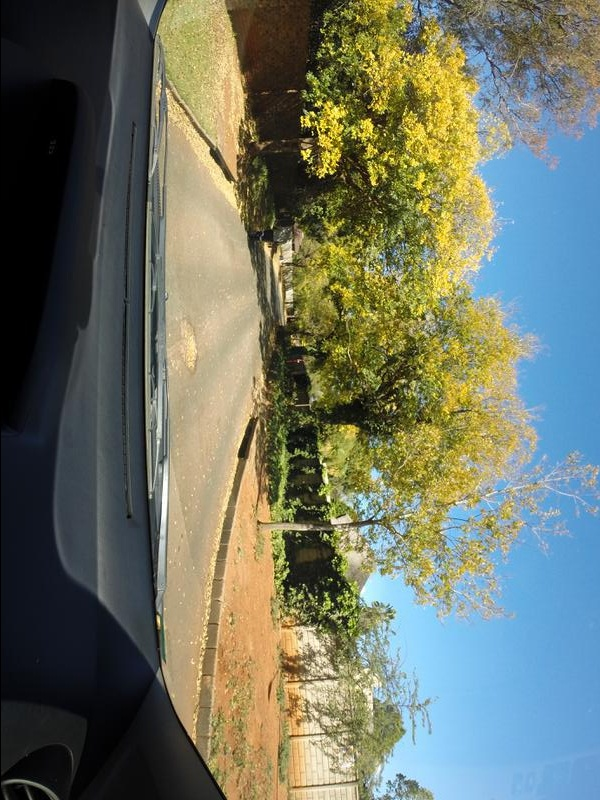pothole: (180, 317, 194, 372)
